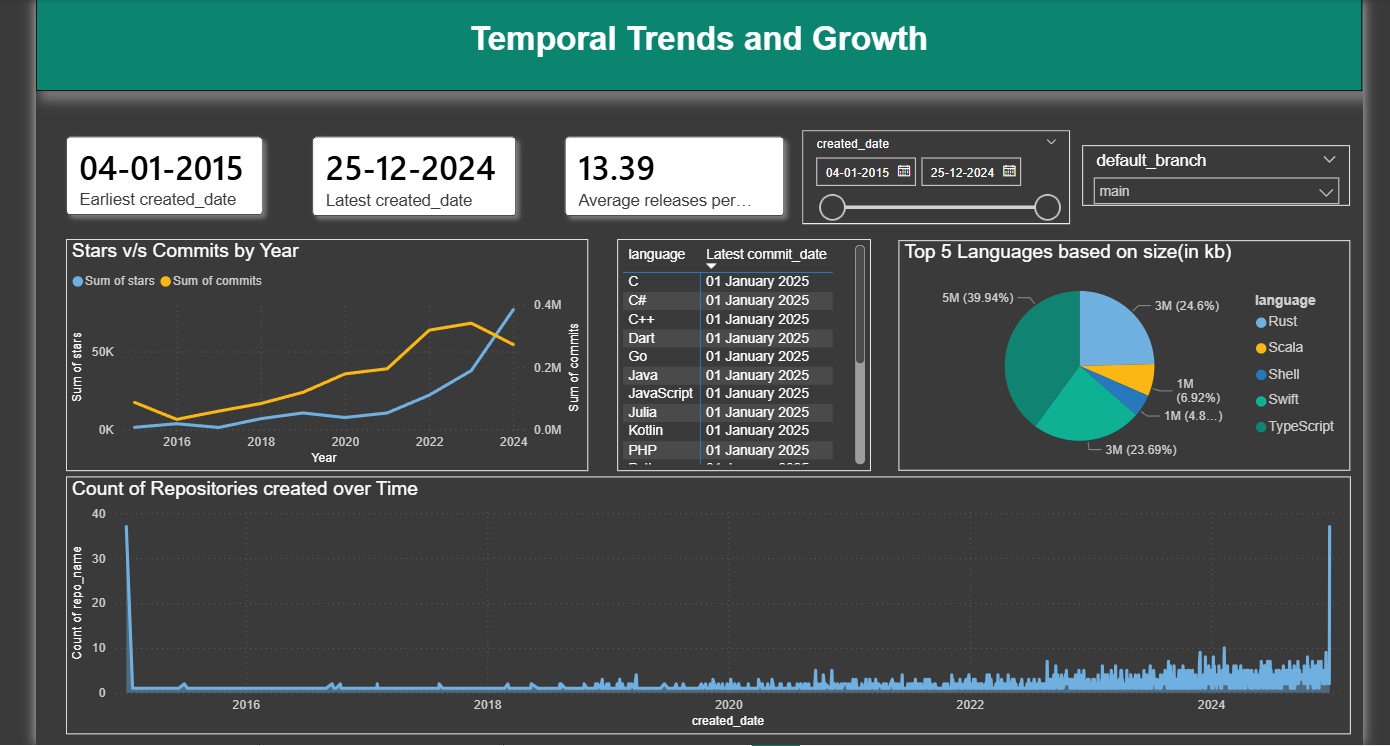

What the dashboard file says about the page in this screenshot:
{"tool":"powerbi","page":{"name":"Temporal Trends and Growth","canvas":[1280,720],"ordinal":2},"visuals":[{"type":"textbox","box":[0,0,1280.3,89.2],"z":0},{"type":"cardVisual","fields":{"Data":["Min(github_repos.created_date)"]},"box":[0,104.3,248.6,134.3],"z":1000},{"type":"cardVisual","fields":{"Data":["Avg(github_repos.releases)"]},"box":[481.2,103.8,270,135],"z":2000},{"type":"cardVisual","fields":{"Data":["Max(github_repos.created_date)"]},"box":[237.5,103.8,255,135],"z":3000},{"type":"slicer","fields":{"Values":["github_repos.created_date"]},"box":[740,126.2,258.8,90],"z":4000},{"type":"slicer","fields":{"Values":["github_repos.default_branch"]},"box":[1010,141.2,258.8,58.8],"z":5000},{"type":"areaChart","title":"Count of Repositories created over Time","fields":{"Category":["github_repos.created_date"],"Y":["CountNonNull(github_repos.repo_name)"]},"box":[28.8,461.2,1240,248.8],"z":6000},{"type":"lineChart","title":"Stars v/s Commits by Year","fields":{"Y":["Sum(github_repos.stars)"],"Y2":["Sum(github_repos.commits)"],"Category":["github_repos.created_date.Variation.Date Hierarchy.Year"]},"box":[28.8,231.2,503.8,223.8],"z":7000},{"type":"pivotTable","fields":{"Rows":["github_repos.language"],"Values":["Max(github_repos.last_commit_date)"]},"box":[561.2,231.2,245,223.8],"z":8000},{"type":"pieChart","title":"Top 5 Languages based on size(in kb)","fields":{"Y":["Sum(github_repos.size_kb)"],"Series":["github_repos.language"]},"box":[832.5,232.5,436.2,222.5],"z":9000}]}

Visuals, with their boxes on the page's 1280x720 design canvas (x1, y1, x2, y2). These are canvas units, not pixel positions in the 1390x746 screenshot, which may show the page scaled, cropped or inside an application window:
textbox: region(0, 0, 1280, 89)
cardVisual - Min(github_repos.created_date): region(0, 104, 249, 239)
cardVisual - Avg(github_repos.releases): region(481, 104, 751, 239)
cardVisual - Max(github_repos.created_date): region(238, 104, 492, 239)
slicer - github_repos.created_date: region(740, 126, 999, 216)
slicer - github_repos.default_branch: region(1010, 141, 1269, 200)
"Count of Repositories created over Time" areaChart: region(29, 461, 1269, 710)
"Stars v/s Commits by Year" lineChart: region(29, 231, 533, 455)
pivotTable - github_repos.language x Max(github_repos.last_commit_date): region(561, 231, 806, 455)
"Top 5 Languages based on size(in kb)" pieChart: region(832, 232, 1269, 455)
